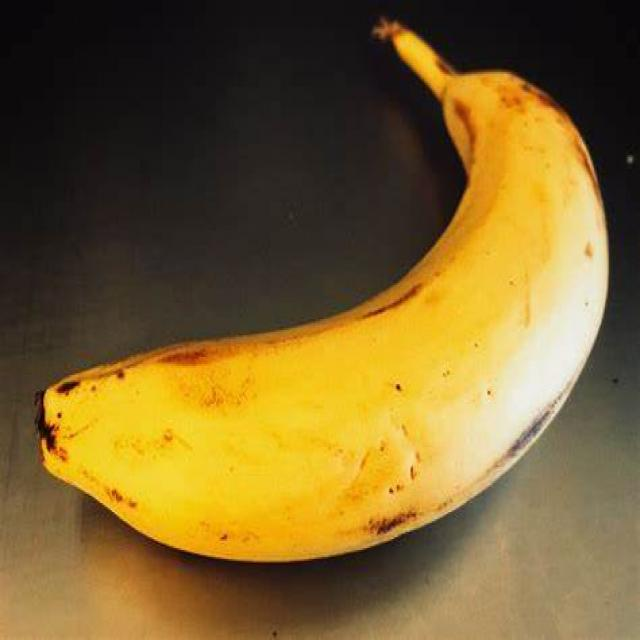Banana: (33, 35, 615, 567)
